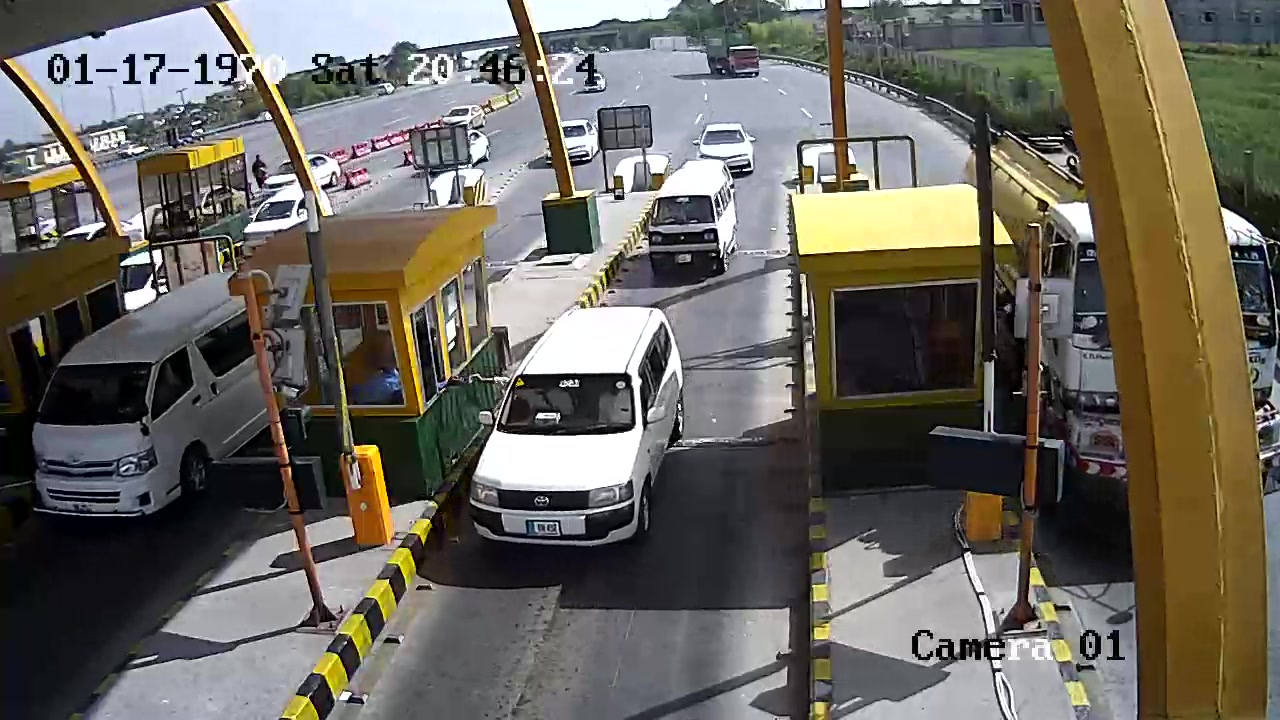F1: (471, 303, 679, 557), (641, 174, 739, 285)
